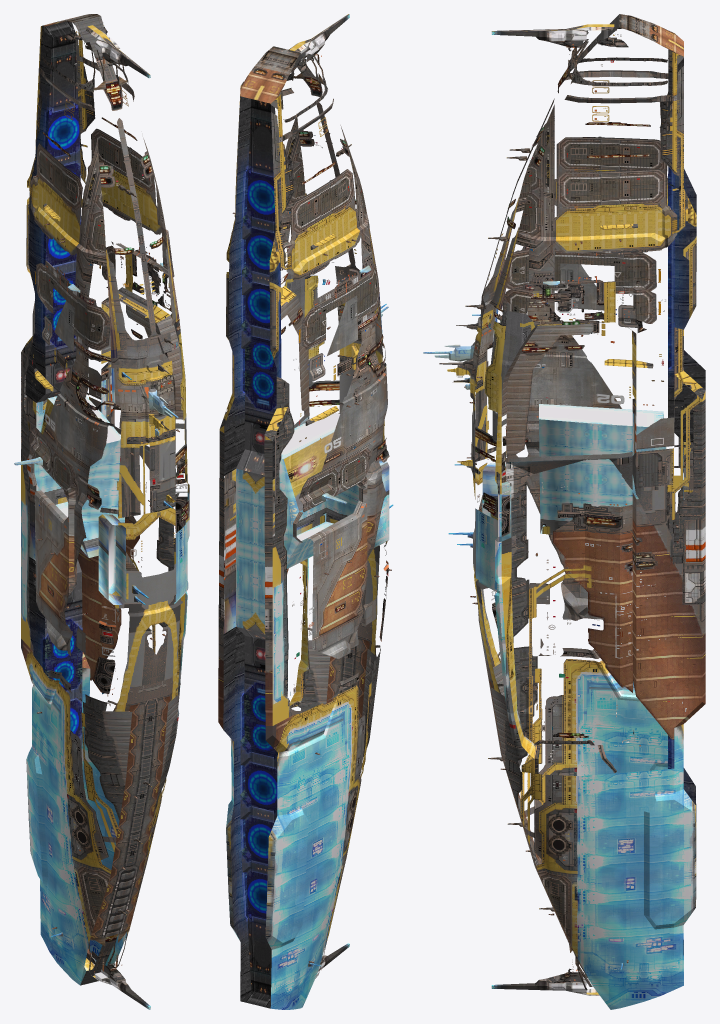
The model's file is LOD0-UVFlip.obj.
3 views of the same model, side by side, from view 1: azimuth 30°, elevation 25°; view 2: azimuth 150°, elevation 25°; view 3: azimuth 270°, elevation 25° (orthographic). The views are drawn at different scales.
Parts seen in each view (by area): view 1: side_upper, side_lower, engine1, leftover, leftover_bay, badge1; view 2: side_upper, side_lower, engine1, leftover, leftover_bay, badge1; view 3: side_lower, side_upper, leftover, engine1, leftover_bay, badge1.
Part boxes in pixels (bbox=[...]): side_upper: bbox=[14, 14, 187, 1009]; side_lower: bbox=[21, 25, 189, 985]; engine1: bbox=[25, 21, 82, 751]; leftover: bbox=[34, 313, 189, 605]; leftover_bay: bbox=[48, 396, 120, 593]; badge1: bbox=[54, 300, 74, 351]; side_upper: bbox=[223, 14, 391, 978]; side_lower: bbox=[218, 14, 393, 1009]; engine1: bbox=[223, 96, 281, 1008]; leftover: bbox=[236, 262, 389, 633]; leftover_bay: bbox=[281, 412, 339, 540]; badge1: bbox=[327, 295, 357, 355]; side_lower: bbox=[447, 24, 705, 1009]; side_upper: bbox=[423, 14, 696, 995]; leftover: bbox=[475, 301, 683, 591]; engine1: bbox=[668, 49, 705, 954]; leftover_bay: bbox=[510, 404, 663, 537]; badge1: bbox=[560, 263, 604, 310].
Size of the model in its own units: 316 by 2468 by 642.
